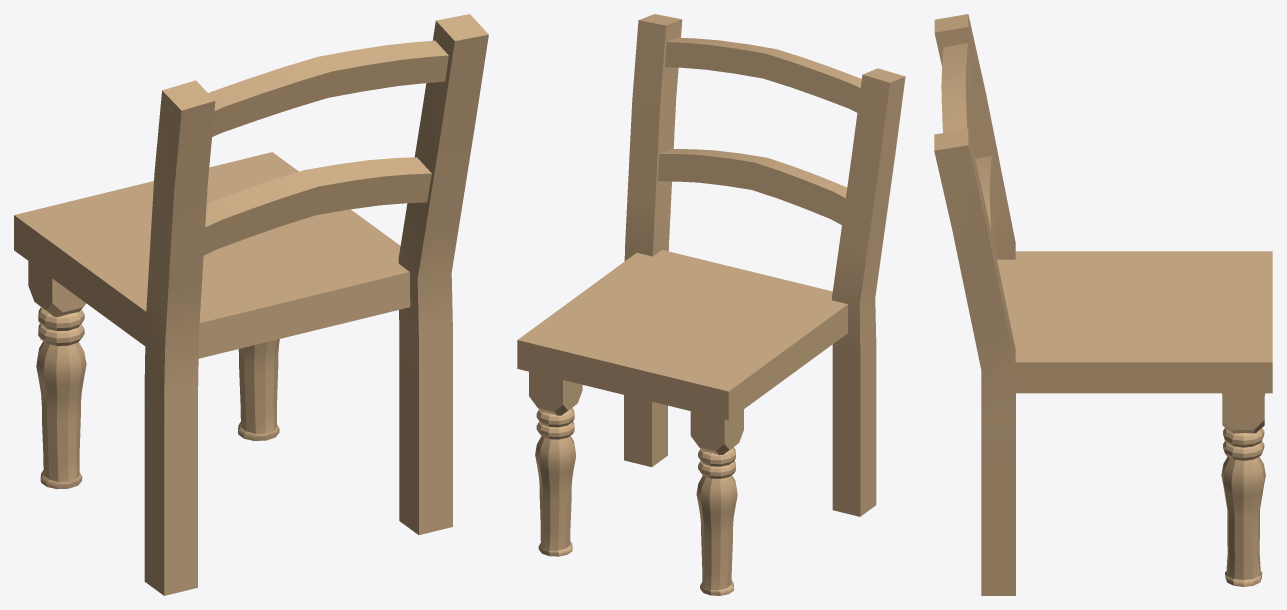
The model's file is chair_myroom.fbx.
The picture shows the model from 3 angles, left to right: view 1: azimuth 30°, elevation 25°; view 2: azimuth 150°, elevation 25°; view 3: azimuth 270°, elevation 25°; orthographic projection. The views are drawn at different scales.
Visible parts, largest first — view 1: pCube5, pCube2, pCube1, pCube3, pCube4, pCylinder2, pCylinder1, pCube7, pTorus3, pTorus4; view 2: pCube5, pCube2, pCube1, pCube3, pCube4, pCylinder1, pCylinder2, pCube7, pCube6, pTorus1; view 3: pCube5, pCube1, pCylinder1, pCube2, pCube4, pCube6, pCube3, pTorus1, pTorus2.
Part boxes in pixels (<box>): pCube5: <box>14,152,410,358</box>; pCube2: <box>144,80,215,595</box>; pCube1: <box>398,14,488,534</box>; pCube3: <box>203,157,431,255</box>; pCube4: <box>208,40,448,136</box>; pCylinder2: <box>36,341,86,489</box>; pCylinder1: <box>238,339,279,440</box>; pCube7: <box>28,261,86,316</box>; pTorus3: <box>38,307,84,331</box>; pTorus4: <box>38,324,84,346</box>; pCube5: <box>517,250,847,420</box>; pCube2: <box>832,68,905,516</box>; pCube1: <box>624,14,682,466</box>; pCube3: <box>658,149,847,224</box>; pCube4: <box>665,37,861,112</box>; pCylinder1: <box>535,436,576,556</box>; pCylinder2: <box>696,475,737,595</box>; pCube7: <box>690,409,743,455</box>; pCube6: <box>529,372,582,415</box>; pTorus1: <box>536,408,574,427</box>; pCube5: <box>997,251,1272,393</box>; pCube1: <box>934,129,1015,595</box>; pCylinder1: <box>1221,456,1265,586</box>; pCube2: <box>934,14,1015,259</box>; pCube4: <box>941,43,973,144</box>; pCube6: <box>1222,393,1264,433</box>; pCube3: <box>975,156,997,256</box>; pTorus1: <box>1223,428,1264,447</box>; pTorus2: <box>1223,441,1264,460</box>.
Bounding box in the file's own units: 7.41 × 12 × 8.01.
